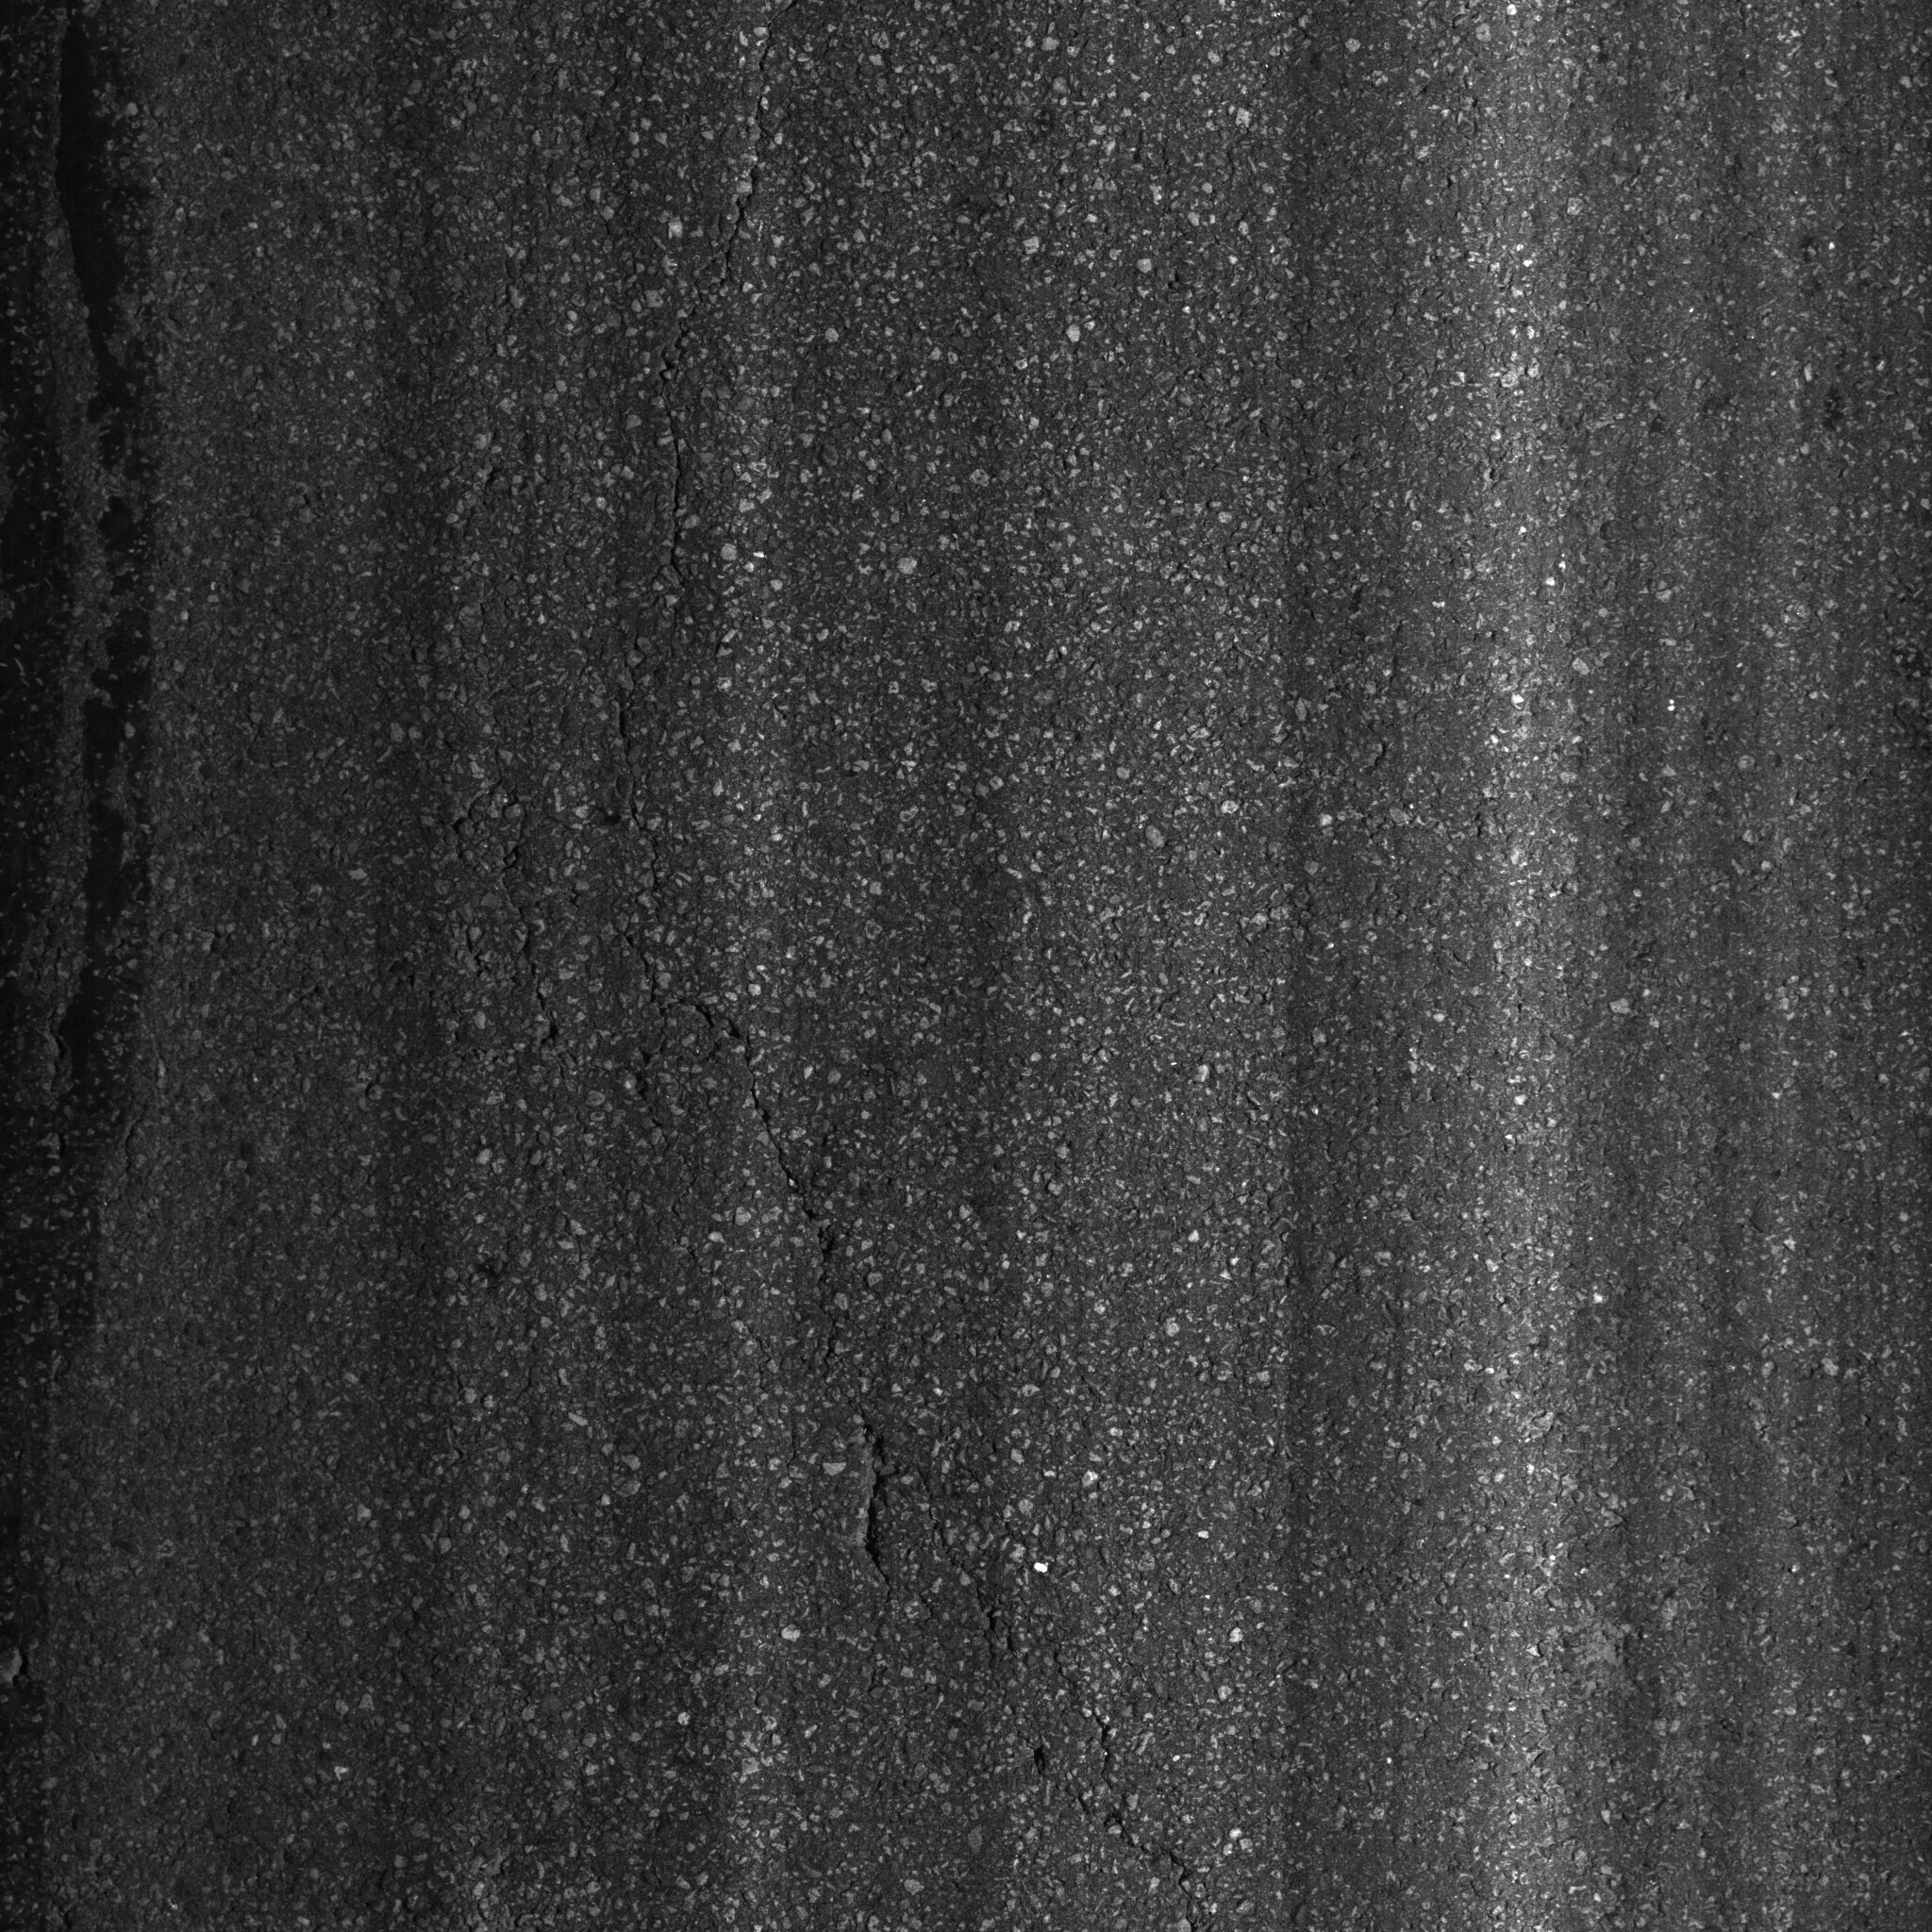longitudinal: (598, 5, 1272, 1909)
